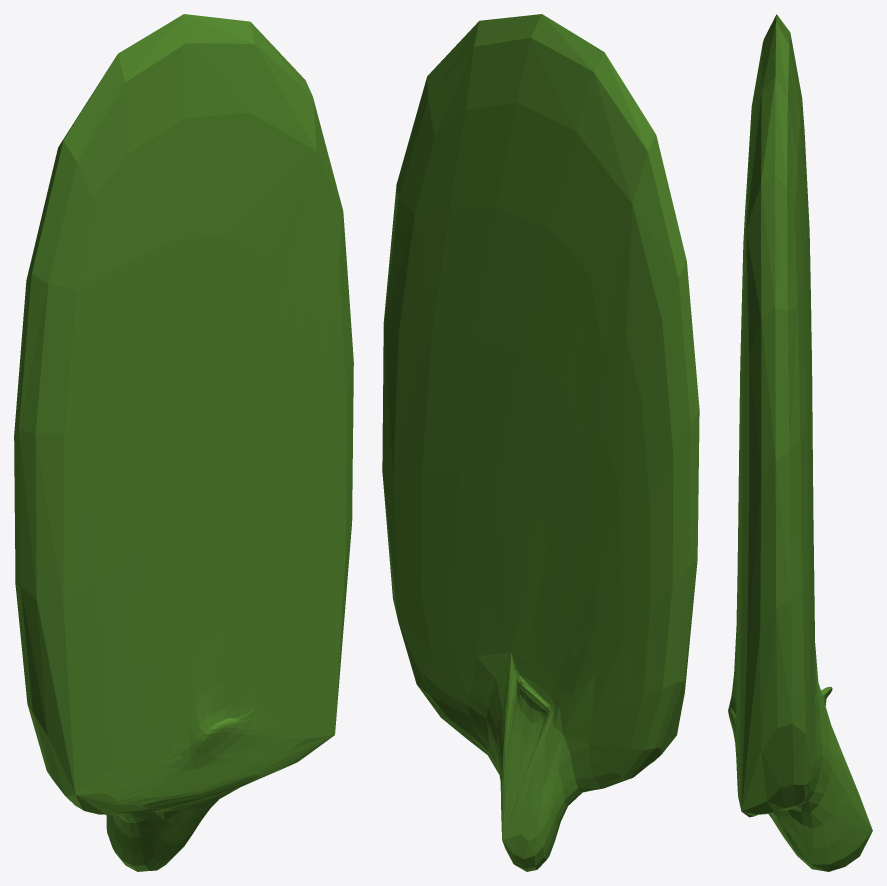
The picture shows the model from 3 angles, left to right: view 1: azimuth 30°, elevation 25°; view 2: azimuth 150°, elevation 25°; view 3: azimuth 270°, elevation 25°; orthographic projection. The views are drawn at different scales.
Parts seen in each view (by area): view 1: 888_Cube.3586; view 2: 888_Cube.3586; view 3: 888_Cube.3586.
Part boxes in pixels (left/top/right/bottom): 888_Cube.3586: left=14, top=14, right=353, bottom=871; 888_Cube.3586: left=382, top=14, right=699, bottom=871; 888_Cube.3586: left=728, top=14, right=872, bottom=871.
Size of the model in its own units: 4.95 by 12.47 by 1.91.
